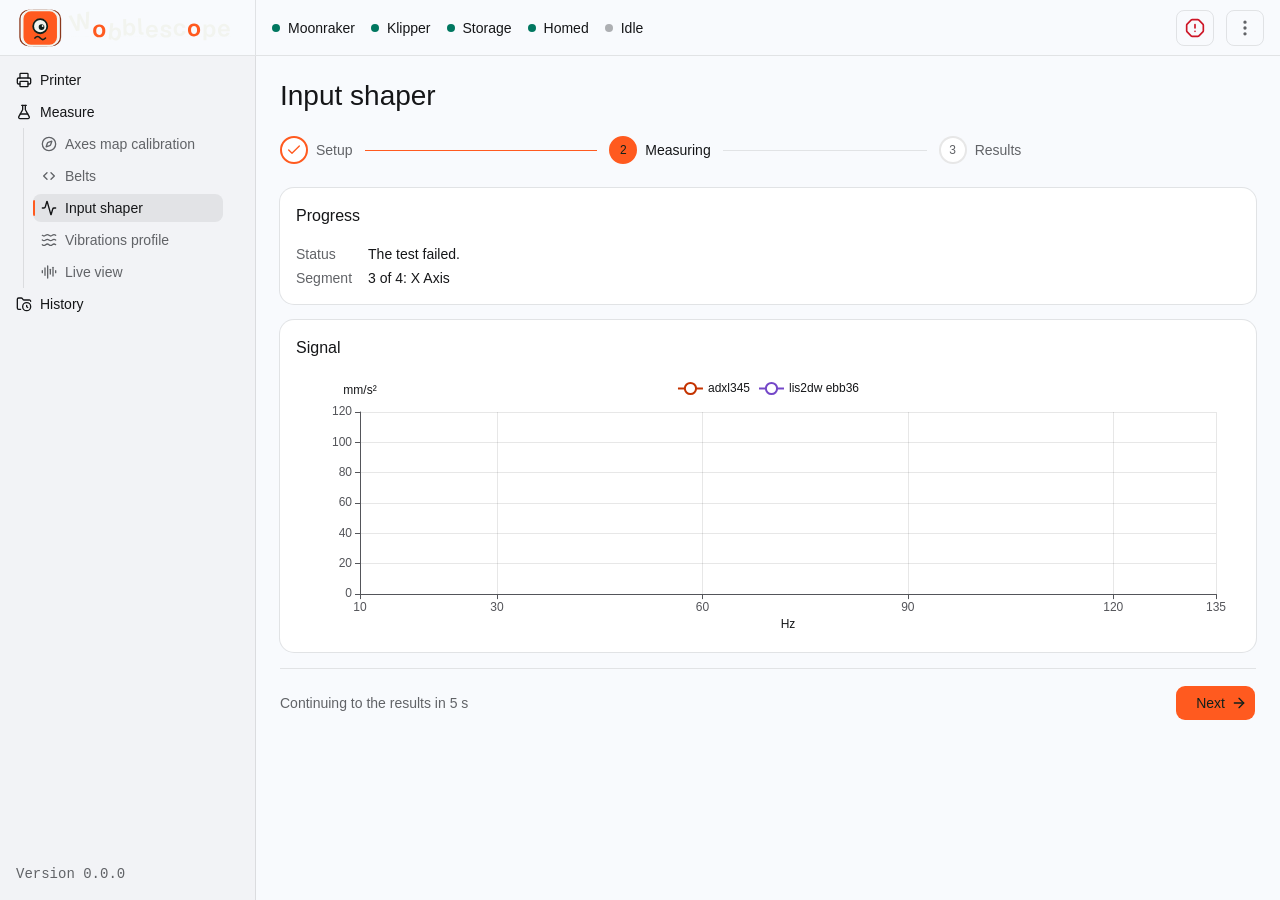
Test: a running test › shows the shutdown notice when the test ended with an emergency stop
The width and height of the screenshot is (1280, 900).
Click the button "Next": (1216, 703) [1175, 685, 1256, 721]
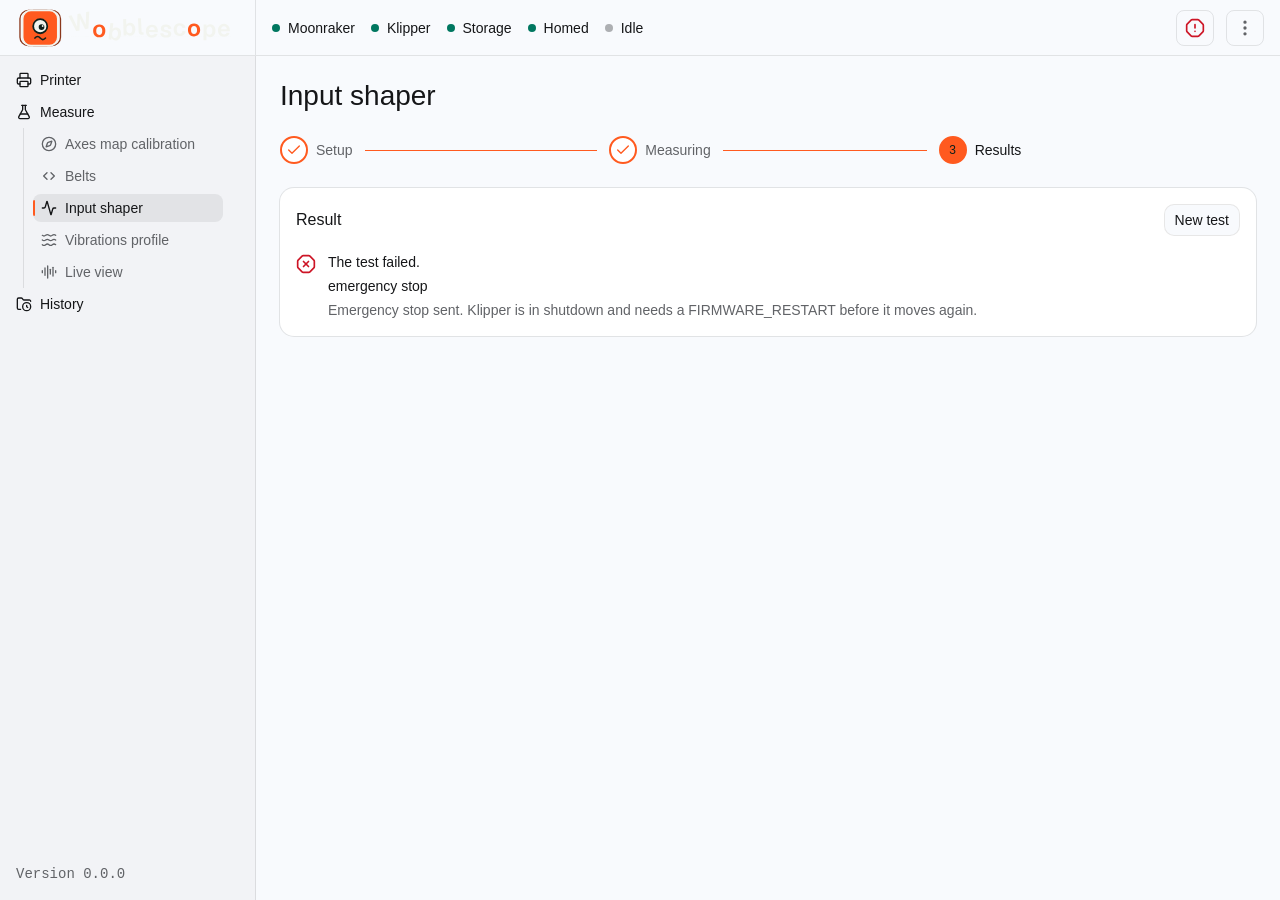
expect the heading "The test failed." is shown: met, box [328, 254, 420, 270]
expect the text "FIRMWARE_RESTART" is shown: met, box [328, 302, 977, 318]
